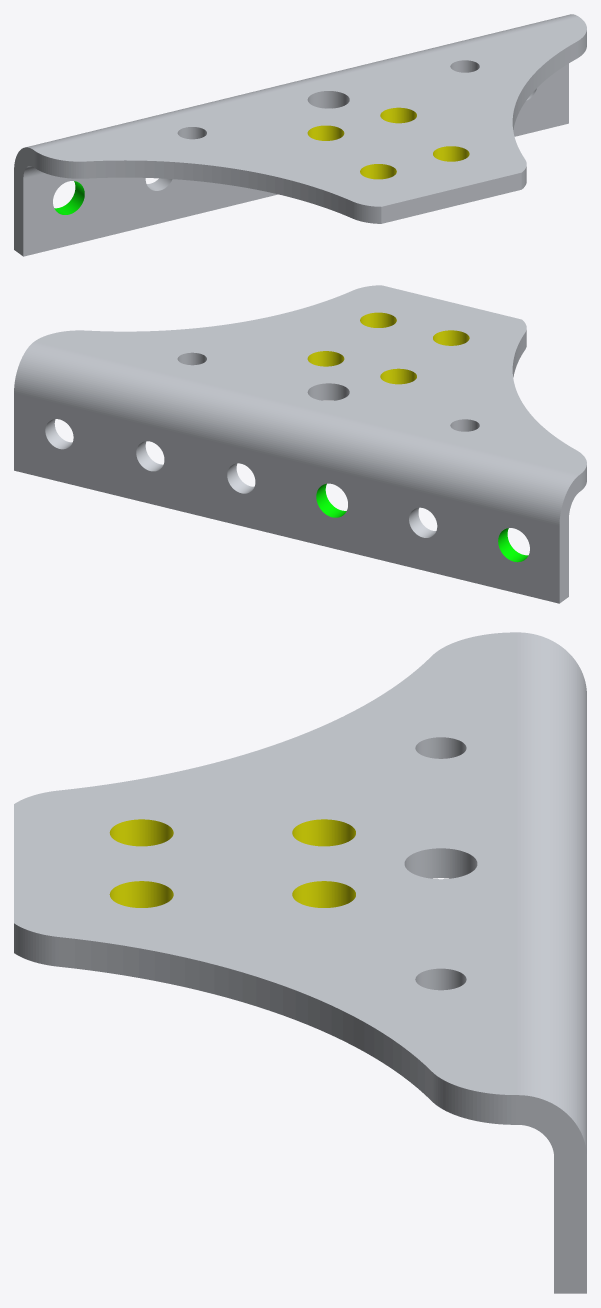
3 renders of one model, top to bottom at view 1: azimuth 30°, elevation 25°; view 2: azimuth 150°, elevation 25°; view 3: azimuth 270°, elevation 25°, orthographic. The views are drawn at different scales.
Visible parts, largest first — view 1: Node1, Node3, Node2; view 2: Node1, Node3, Node2; view 3: Node1, Node3.
Part boxes in pixels (<box>): Node1: <box>14,14,586,256</box>; Node3: <box>307,107,469,179</box>; Node2: <box>54,181,84,214</box>; Node1: <box>14,285,586,603</box>; Node3: <box>307,312,469,384</box>; Node2: <box>316,483,528,562</box>; Node1: <box>14,632,586,1293</box>; Node3: <box>109,819,355,907</box>.
Bounding box in the file's own units: 300 × 60 × 157.
